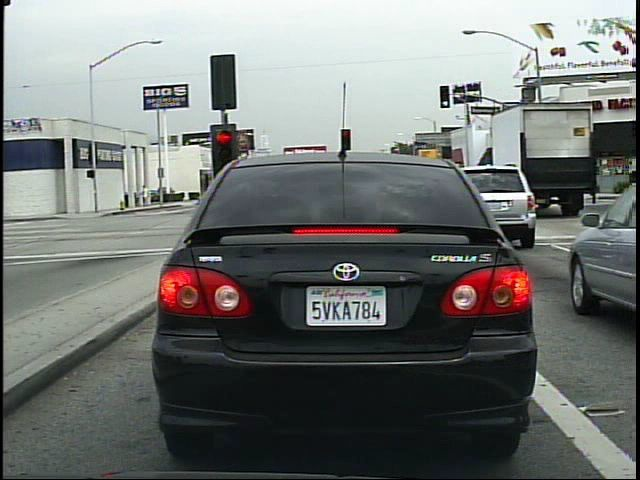person: (517, 169, 532, 202), (141, 182, 153, 211)
